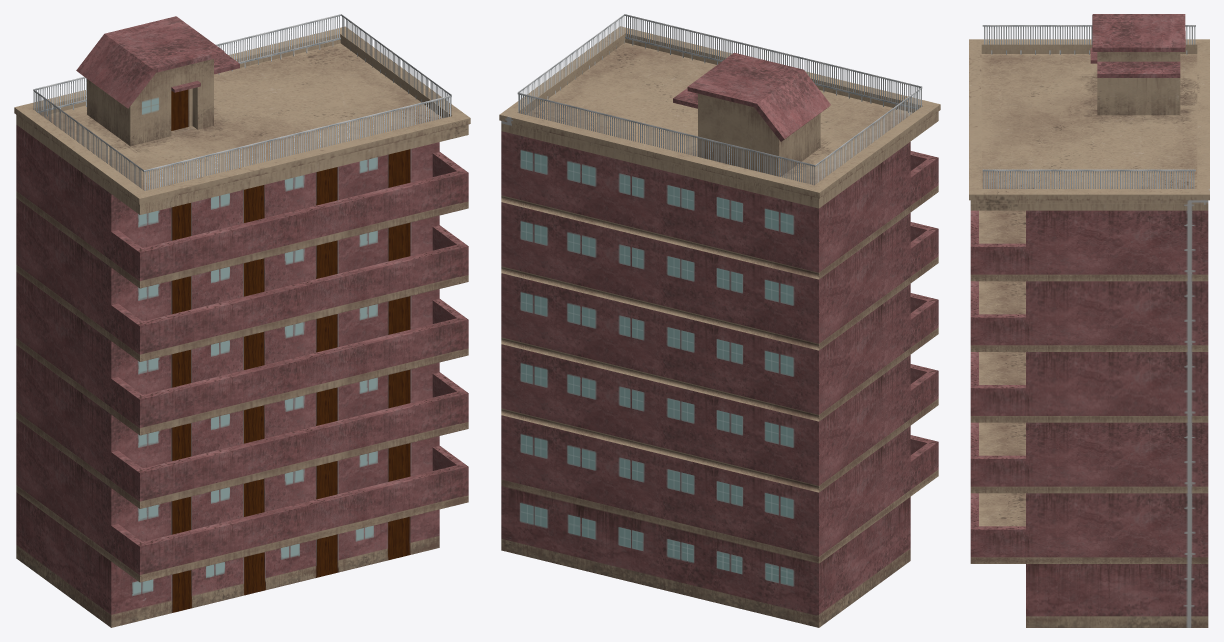
3 views of the same model, side by side, from view 1: azimuth 30°, elevation 25°; view 2: azimuth 150°, elevation 25°; view 3: azimuth 270°, elevation 25° (orthographic). The views are drawn at different scales.
Parts seen in each view (by area): view 1: floor, Handrail, ceiling, rooftop, rooftop_021, rooftop_020, rooftop_006, rooftop_007, rooftop_002, rooftop_008, rooftop_017, rooftop_005 (+5 smaller); view 2: floor, ceiling, rooftop, Handrail, rooftop_008, rooftop_002, rooftop_005, rooftop_007, rooftop_021, rooftop_020, rooftop_017, rooftop_019 (+7 smaller); view 3: floor, ceiling, rooftop, Handrail, rooftop_012, rooftop_009, rooftop_010, rooftop_011, rooftop_013.
Part boxes in pixels (left/top/right/bottom): floor: left=16, top=125, right=439, bottom=627; Handrail: left=111, top=151, right=468, bottom=575; ceiling: left=16, top=43, right=468, bottom=582; rooftop: left=14, top=16, right=470, bottom=207; rooftop_021: left=279, top=14, right=341, bottom=59; rooftop_020: left=218, top=29, right=279, bottom=74; rooftop_006: left=267, top=125, right=328, bottom=160; rooftop_007: left=329, top=110, right=390, bottom=145; rooftop_002: left=144, top=155, right=205, bottom=190; rooftop_008: left=390, top=95, right=451, bottom=130; rooftop_017: left=33, top=77, right=86, bottom=116; rooftop_005: left=205, top=140, right=266, bottom=175; floor: left=501, top=131, right=910, bottom=627; ceiling: left=501, top=42, right=938, bottom=563; rooftop: left=499, top=26, right=940, bottom=201; Handrail: left=910, top=151, right=938, bottom=489; rooftop_008: left=624, top=14, right=684, bottom=57; rooftop_002: left=863, top=72, right=921, bottom=112; rooftop_005: left=803, top=57, right=862, bottom=101; rooftop_007: left=684, top=29, right=743, bottom=64; rooftop_021: left=517, top=92, right=576, bottom=127; rooftop_020: left=577, top=107, right=636, bottom=141; rooftop_017: left=755, top=151, right=815, bottom=184; rooftop_019: left=636, top=121, right=696, bottom=156; floor: left=1026, top=210, right=1208, bottom=627; ceiling: left=970, top=54, right=1208, bottom=563; rooftop: left=969, top=14, right=1209, bottom=203; Handrail: left=970, top=210, right=1025, bottom=557; rooftop_012: left=982, top=25, right=1050, bottom=54; rooftop_009: left=982, top=169, right=1050, bottom=188; rooftop_010: left=1051, top=169, right=1119, bottom=188; rooftop_011: left=1119, top=169, right=1187, bottom=188; rooftop_013: left=1051, top=25, right=1092, bottom=54.
Bounding box in the file's own units: 1008 × 1498 × 660.
